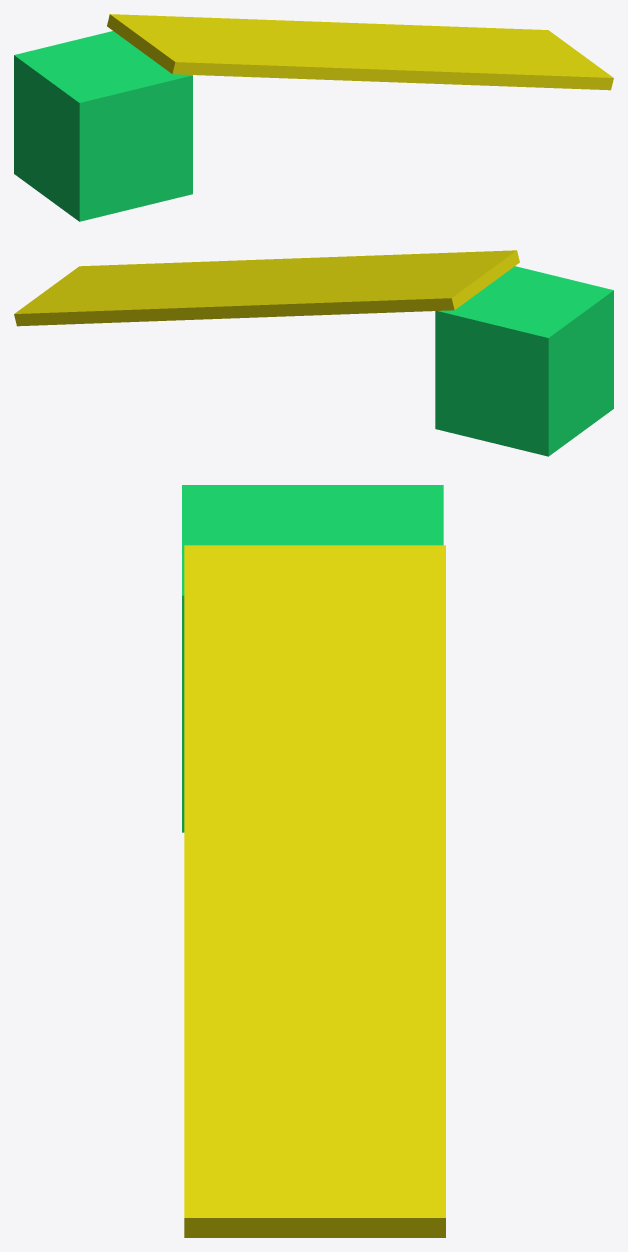
The model's file is godot-fpc.glb.
3 views of the same model, one above another, from view 1: azimuth 30°, elevation 25°; view 2: azimuth 150°, elevation 25°; view 3: azimuth 270°, elevation 25° (orthographic). The views are drawn at different scales.
Parts seen in each view (by area): view 1: cube-col, ramp-col; view 2: cube-col, ramp-col; view 3: ramp-col, cube-col.
Boxes of the visible parts, bbox=[...] form: cube-col: bbox=[14, 31, 192, 221]; ramp-col: bbox=[107, 14, 613, 90]; cube-col: bbox=[435, 266, 613, 456]; ramp-col: bbox=[14, 250, 519, 326]; ramp-col: bbox=[184, 545, 445, 1237]; cube-col: bbox=[182, 485, 443, 832].
Size of what is drawn, in the model's own units: 9.43 by 2.29 by 2.02.
